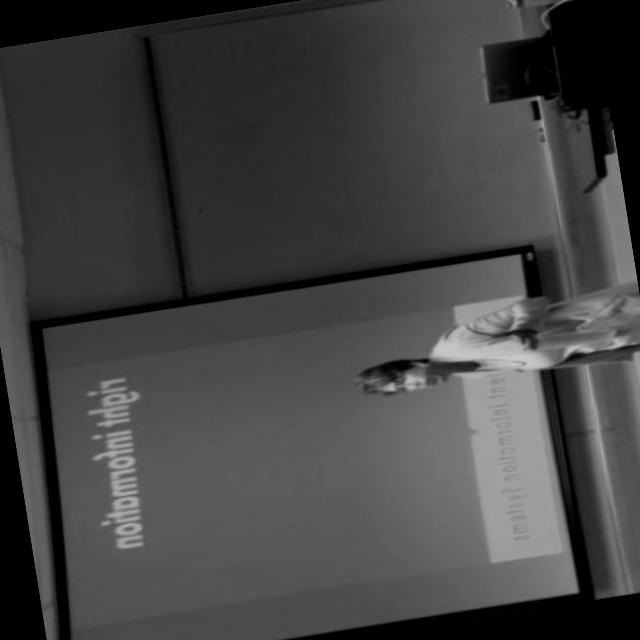Instructor: (343, 274, 640, 407)
Slide: (46, 292, 567, 629)
White-board: (137, 0, 630, 640)
